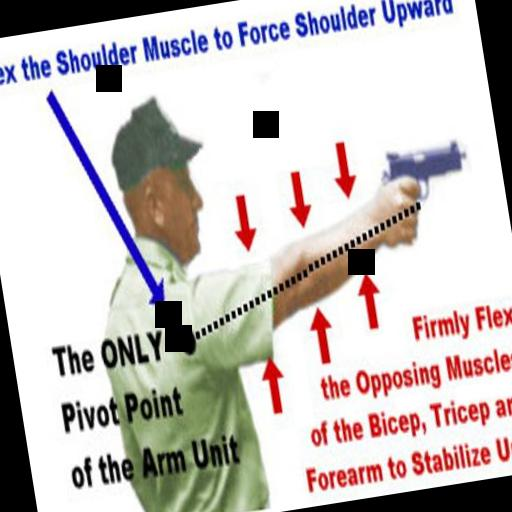Handgun: (367, 130, 477, 258)
